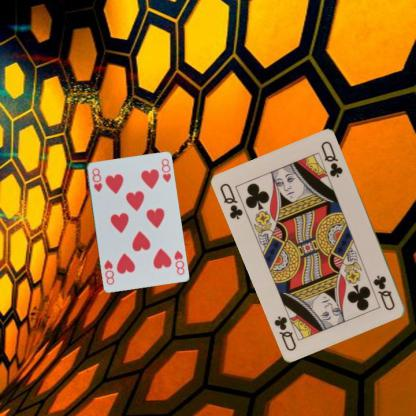8h: (90, 165, 104, 193), (171, 248, 185, 276)
Qc: (218, 180, 245, 221), (371, 273, 397, 312)
